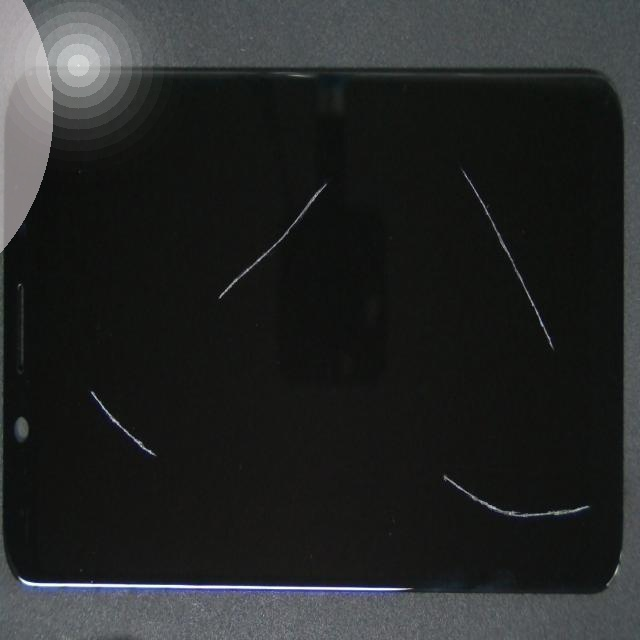scratch: (211, 0, 640, 304), (288, 286, 640, 640), (224, 10, 422, 302), (119, 259, 208, 630)
